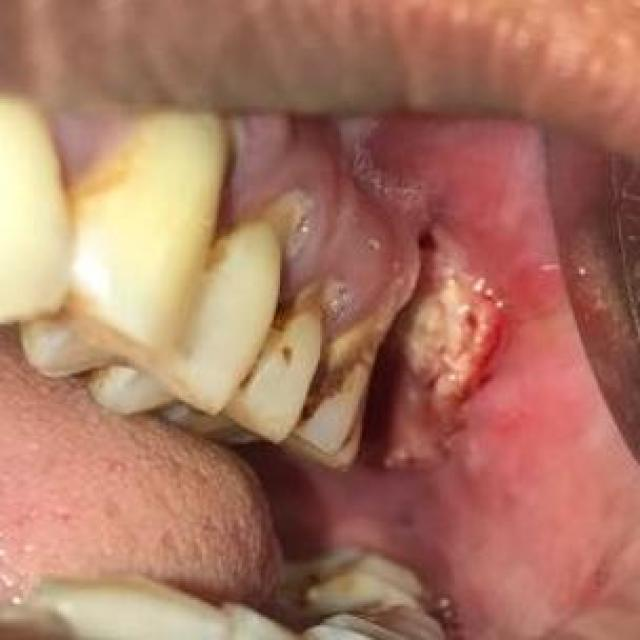cancer-detection: (221, 117, 522, 479)
processing_area: (0, 114, 638, 638)
